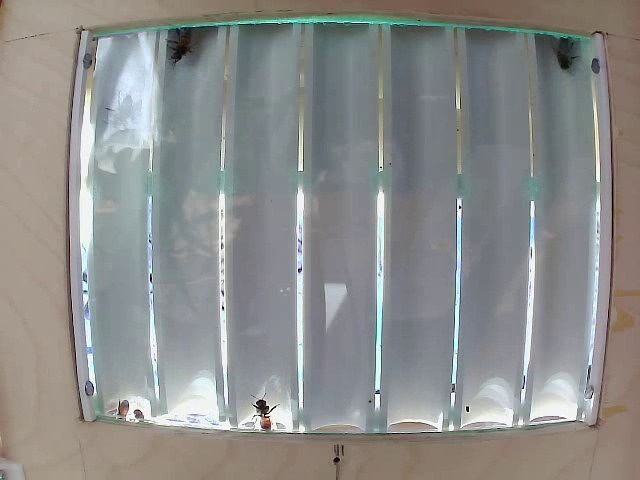bee: (548, 33, 584, 87), (242, 389, 287, 427), (171, 26, 201, 63)
